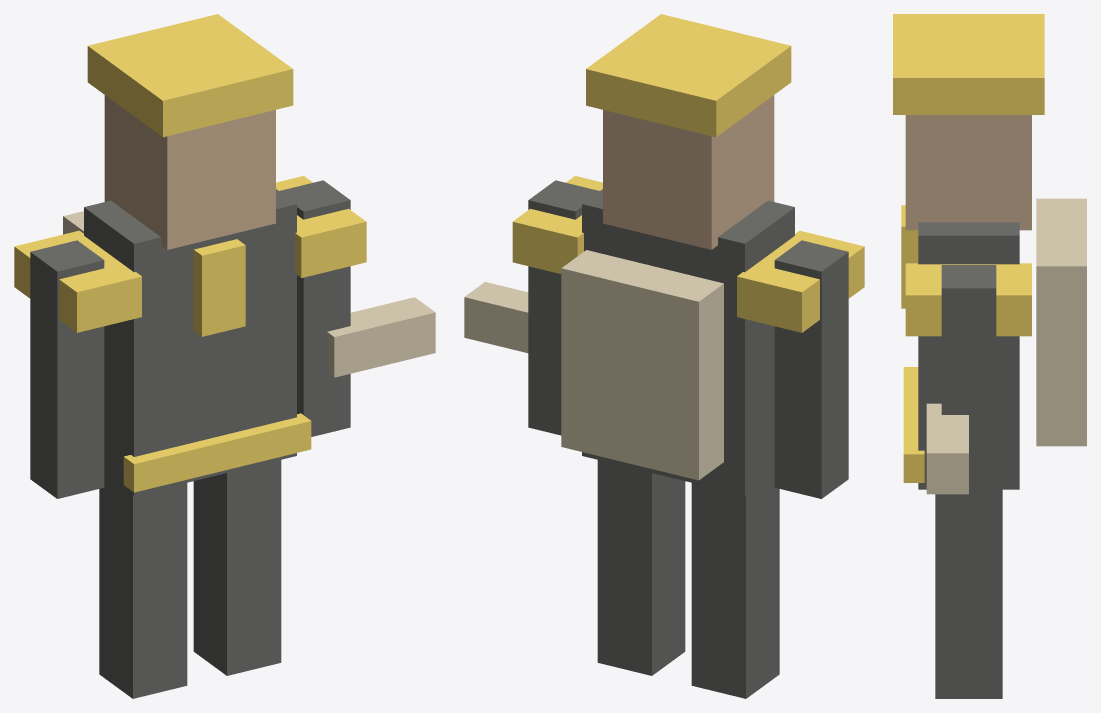
File: 18_ossa_echohand_warden_of_trench.glb
3 views of the same model, side by side, from view 1: azimuth 30°, elevation 25°; view 2: azimuth 150°, elevation 25°; view 3: azimuth 270°, elevation 25° (orthographic).
Visible parts, largest first — view 1: Ossa Echohand, Warden of Trench; view 2: Ossa Echohand, Warden of Trench; view 3: Ossa Echohand, Warden of Trench.
Part boxes in pixels (x1=…): Ossa Echohand, Warden of Trench: x1=14, y1=14, x2=435, y2=698; Ossa Echohand, Warden of Trench: x1=464, y1=14, x2=864, y2=698; Ossa Echohand, Warden of Trench: x1=893, y1=14, x2=1086, y2=698.
Size of the model in its own units: 1.04 by 1.64 by 0.4671.
